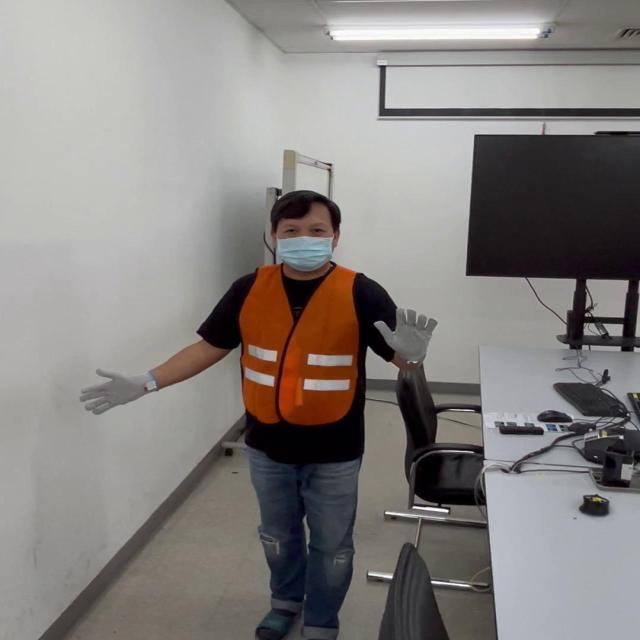gloved_hand: (367, 304, 437, 368), (84, 366, 159, 414)
